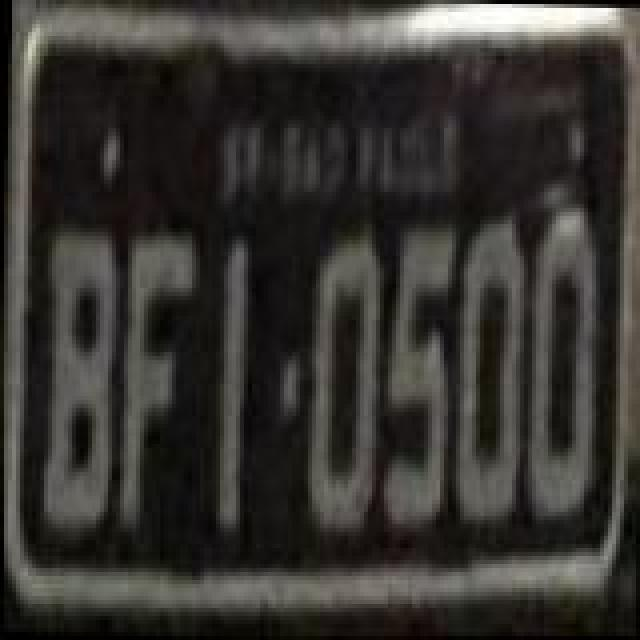1: (210, 238, 254, 534)
5: (376, 222, 456, 534)
B: (38, 224, 122, 536)
F: (114, 236, 198, 536)
O: (298, 230, 382, 542), (520, 202, 600, 526), (448, 216, 528, 528)
